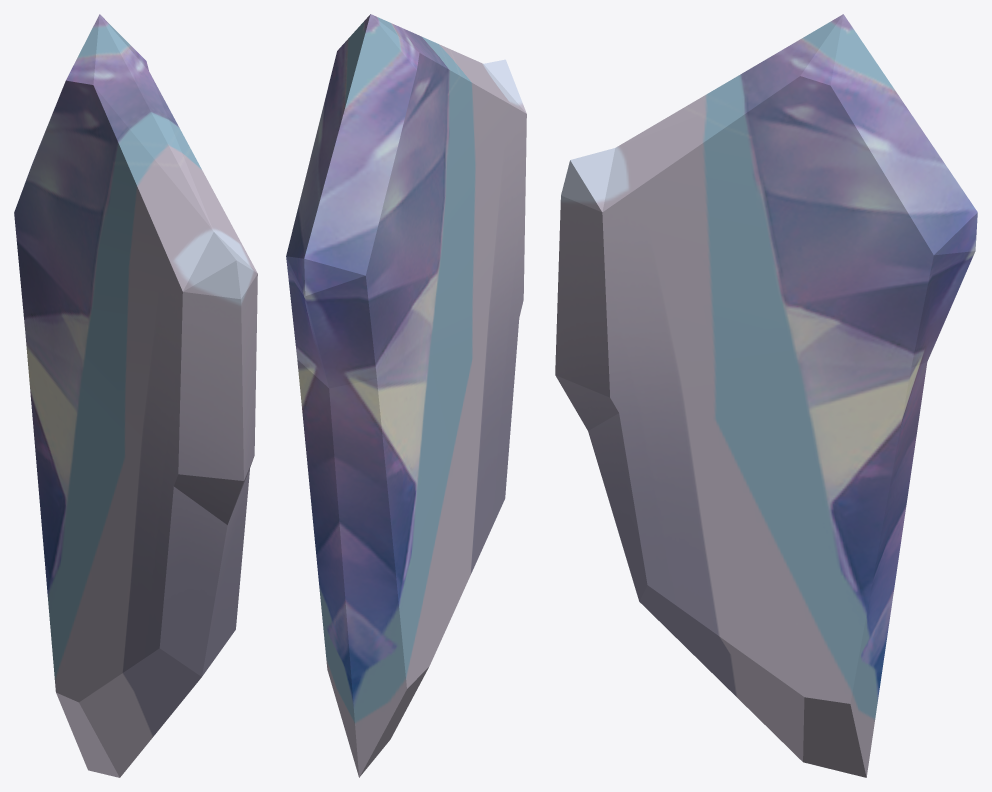
Rendered from Skill 1 Mirror 4.glb.
The picture shows the model from 3 angles, left to right: view 1: azimuth 30°, elevation 25°; view 2: azimuth 150°, elevation 25°; view 3: azimuth 270°, elevation 25°; orthographic projection.
Parts seen in each view (by area): view 1: cyrene_00_skill01_mirror04_LOD0; view 2: cyrene_00_skill01_mirror04_LOD0; view 3: cyrene_00_skill01_mirror04_LOD0.
Part boxes in pixels (x1,y1,x2,y2): cyrene_00_skill01_mirror04_LOD0: (14, 14, 257, 777); cyrene_00_skill01_mirror04_LOD0: (286, 14, 526, 777); cyrene_00_skill01_mirror04_LOD0: (555, 14, 977, 777).
Bounding box in the file's own units: 0.1422 × 1.29 × 0.646.
1 material, 1 textured.
